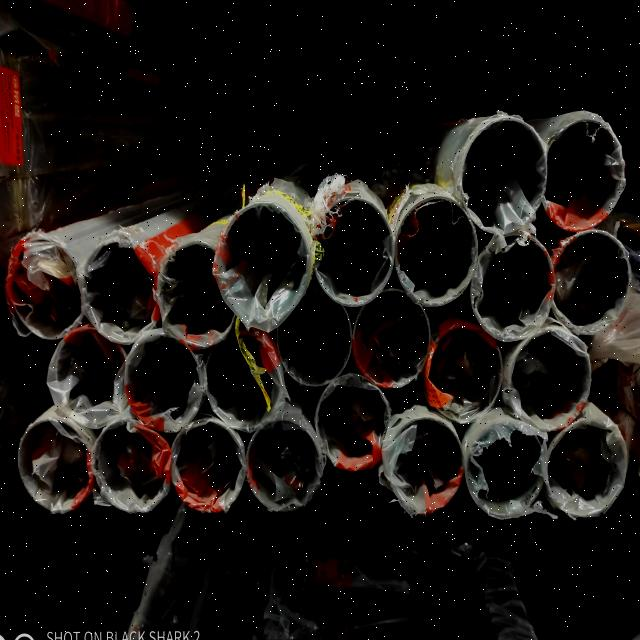pipe: (211, 200, 313, 324), (458, 115, 552, 233), (537, 114, 627, 232), (392, 195, 478, 307), (313, 192, 395, 306), (471, 232, 554, 342), (543, 414, 628, 520), (156, 240, 238, 348), (46, 325, 132, 427), (549, 229, 633, 333), (81, 236, 160, 346), (509, 328, 592, 432), (7, 232, 85, 342), (464, 417, 546, 519), (204, 328, 284, 432), (91, 420, 172, 520), (352, 286, 432, 386), (424, 324, 504, 422), (17, 413, 93, 515), (314, 374, 392, 472), (276, 288, 353, 387), (244, 418, 322, 514), (168, 419, 245, 515), (392, 417, 464, 515)
